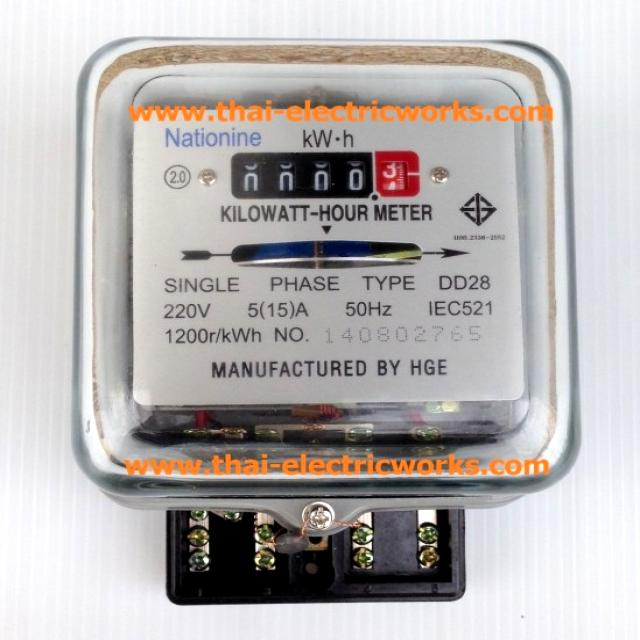digit_area: (232, 159, 421, 197)
